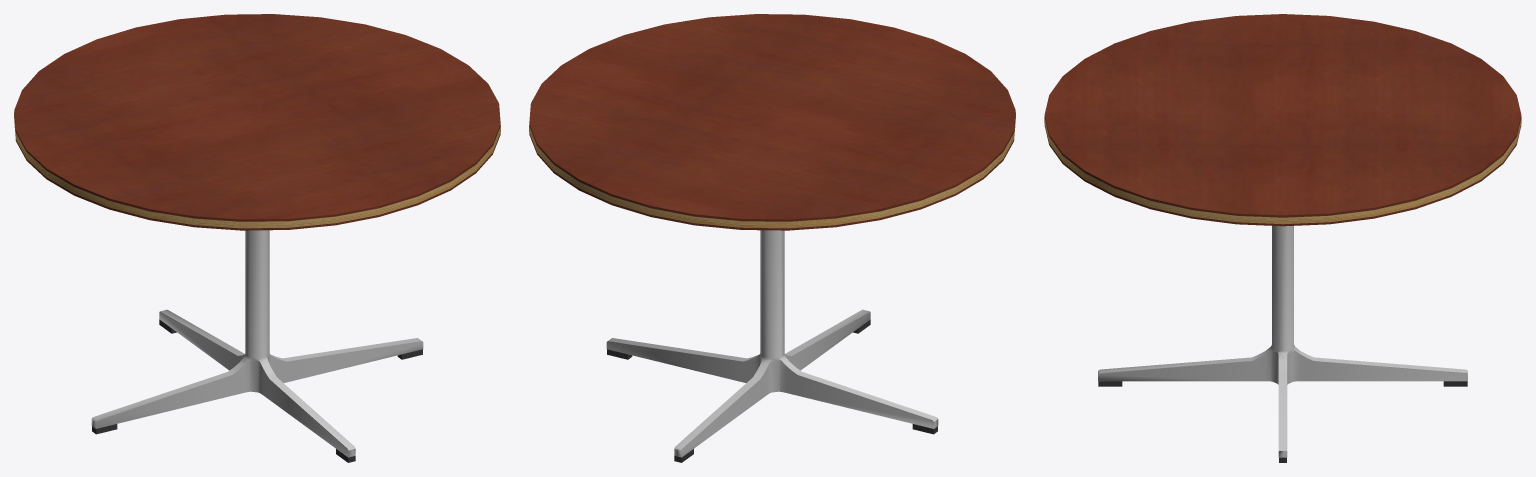
Rendered from table1.gltf.
The picture shows the model from 3 angles, left to right: view 1: azimuth 30°, elevation 25°; view 2: azimuth 150°, elevation 25°; view 3: azimuth 270°, elevation 25°; orthographic projection. The views are drawn at different scales.
Visible parts, largest first — view 1: 6_primitive, 3_primitive, 2_primitive, 8_primitive, 5_primitive, 1_primitive; view 2: 6_primitive, 3_primitive, 2_primitive, 8_primitive, 5_primitive, 1_primitive; view 3: 6_primitive, 3_primitive, 2_primitive, 8_primitive, 5_primitive.
Boxes of the visible parts, x1,y1,x2,y2 form: 6_primitive: (14, 14, 500, 219); 3_primitive: (91, 311, 423, 457); 2_primitive: (92, 230, 421, 450); 8_primitive: (14, 112, 500, 228); 5_primitive: (14, 112, 500, 230); 1_primitive: (92, 319, 422, 462); 6_primitive: (529, 14, 1015, 219); 3_primitive: (606, 311, 938, 457); 2_primitive: (608, 230, 937, 450); 8_primitive: (529, 112, 1015, 228); 5_primitive: (529, 112, 1015, 230); 1_primitive: (607, 319, 937, 462); 6_primitive: (1044, 14, 1521, 215); 3_primitive: (1098, 350, 1467, 457); 2_primitive: (1098, 226, 1467, 450); 8_primitive: (1044, 117, 1521, 224); 5_primitive: (1044, 116, 1521, 226).
Size of the model in its own units: 0.8 by 0.5 by 0.8.
8 materials, 4 textured.
